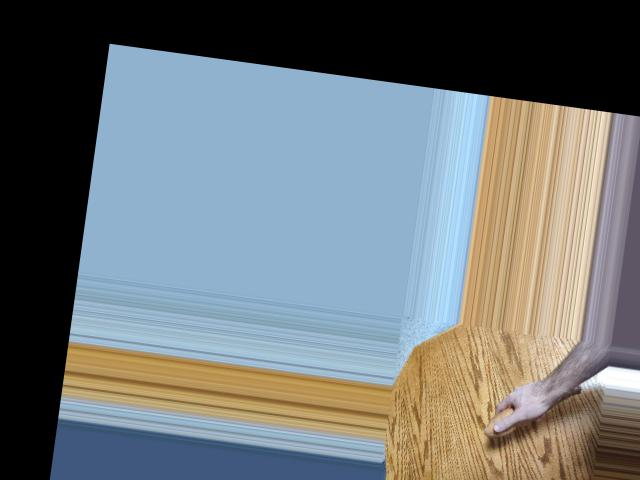sweet_potato: (483, 372, 584, 449)
